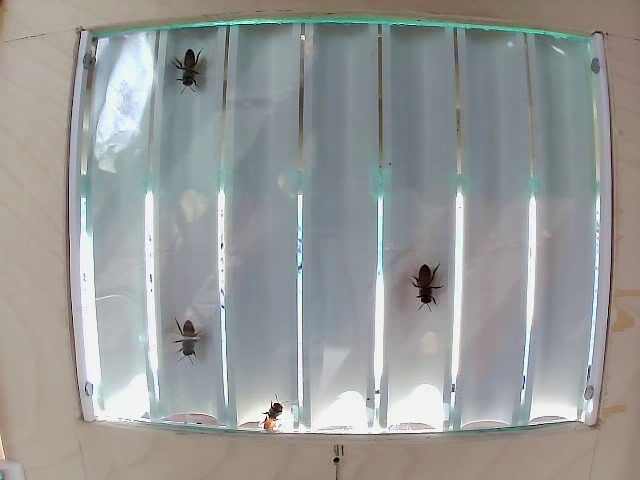bee: (173, 44, 205, 104), (179, 312, 203, 369), (411, 262, 433, 313), (263, 395, 286, 425)
